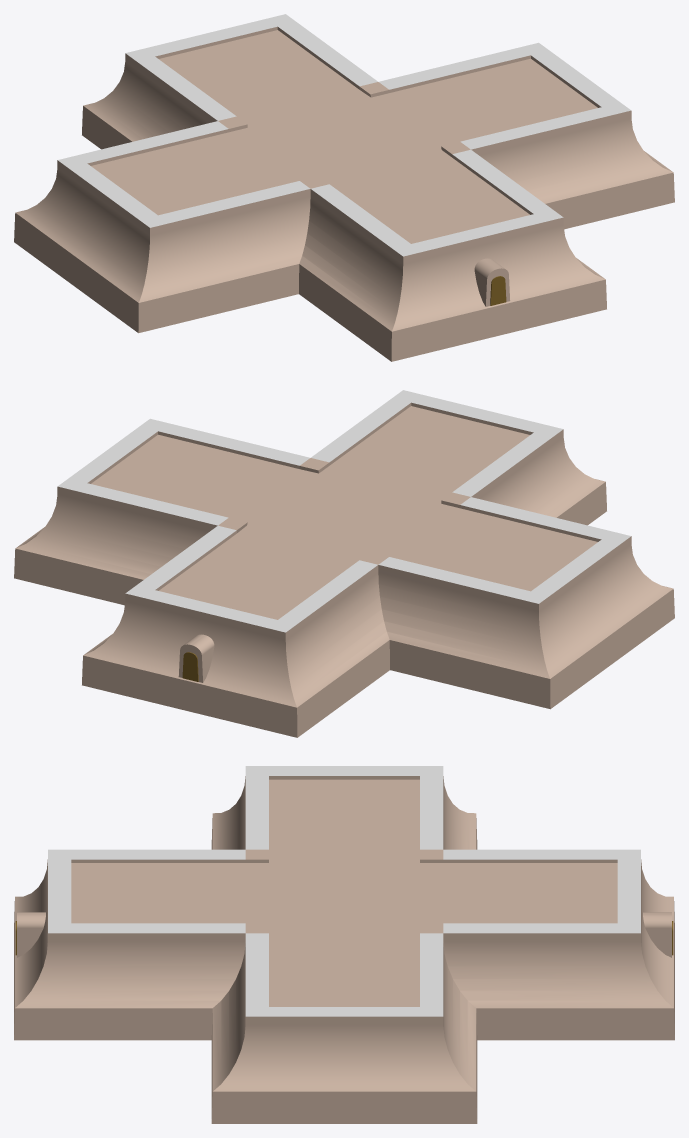
Rendered from Houses_6.fbx.
The picture shows the model from 3 angles, top to bottom: view 1: azimuth 30°, elevation 25°; view 2: azimuth 150°, elevation 25°; view 3: azimuth 270°, elevation 25°; orthographic projection. The views are drawn at different scales.
Visible parts, largest first — view 1: DCHouse_U.015, DCHouse_U.013, DCHouse_U.014, DCHouse_U.012, DCHouse_4Corner.001, HouseDoor.009; view 2: DCHouse_U.015, DCHouse_U.012, DCHouse_U.014, DCHouse_U.013, DCHouse_4Corner.001, HouseDoor.008; view 3: DCHouse_U.014, DCHouse_U.012, DCHouse_U.013, DCHouse_U.015, DCHouse_4Corner.001, HouseDoor.008, HouseDoor.009.
Part boxes in pixels (x1,y1,x2,y2): DCHouse_U.015: [14, 121, 310, 333]; DCHouse_U.013: [299, 149, 606, 361]; DCHouse_U.014: [379, 42, 674, 229]; DCHouse_U.012: [82, 14, 377, 149]; DCHouse_4Corner.001: [218, 82, 470, 188]; HouseDoor.009: [474, 258, 510, 306]; DCHouse_U.015: [378, 497, 674, 709]; DCHouse_U.012: [82, 525, 389, 737]; DCHouse_U.014: [14, 418, 309, 605]; DCHouse_U.013: [311, 390, 606, 525]; DCHouse_4Corner.001: [218, 458, 470, 564]; HouseDoor.008: [178, 634, 214, 682]; DCHouse_U.014: [211, 933, 477, 1123]; DCHouse_U.012: [443, 849, 674, 1040]; DCHouse_U.013: [14, 849, 245, 1040]; DCHouse_U.015: [211, 766, 477, 853]; DCHouse_4Corner.001: [245, 849, 443, 936]; HouseDoor.008: [643, 912, 673, 957]; HouseDoor.009: [15, 912, 45, 957].
Size of the model in its own units: 502 by 502 by 77.66.
